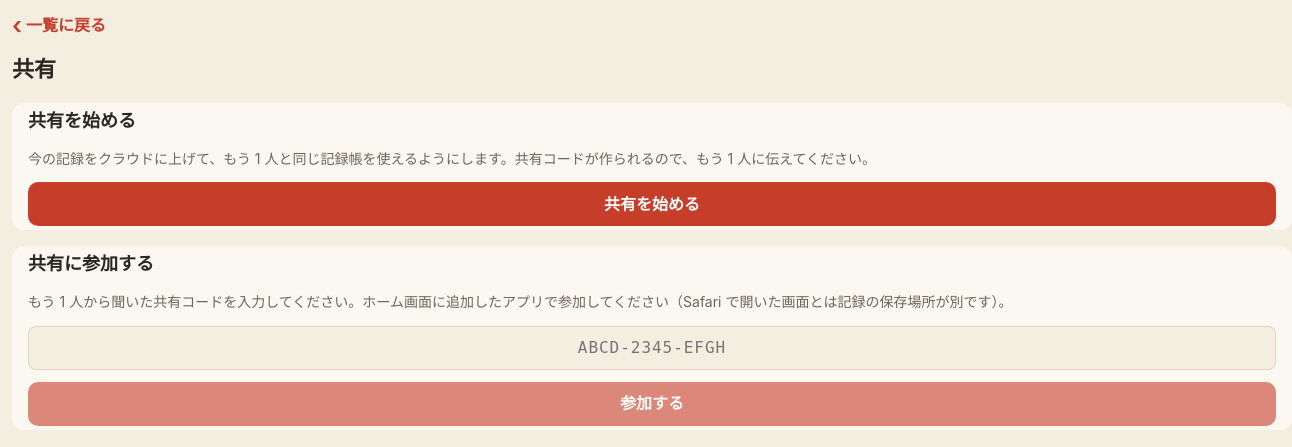
Scenario: SharePage：共有に参加する › 入力が空なら「参加する」を押せない
expect the button "参加する" is disabled: met, box [28,382,1276,426]
Step 1. Type "A" into the field named "共有コード" → (652, 348), box [28,326,1276,370]
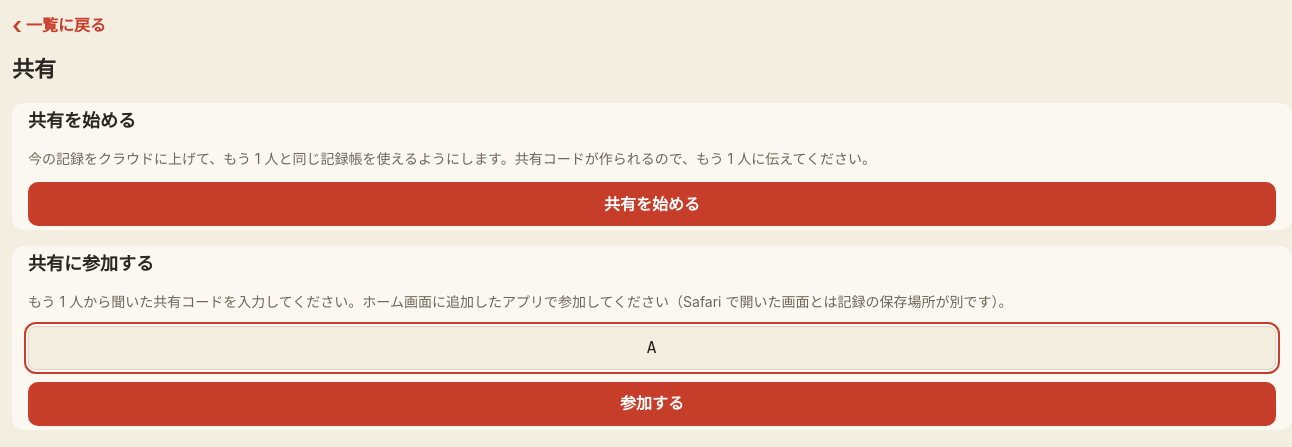
expect the button "参加する" is enabled: met, box [28,382,1276,426]
